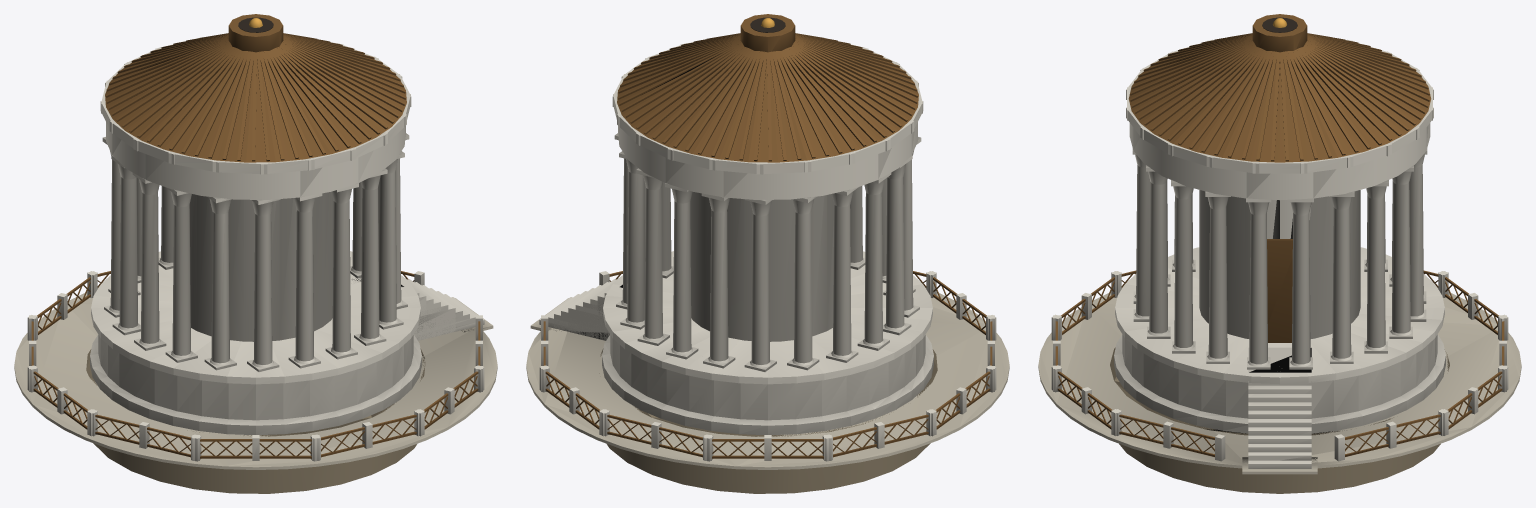
File: rome_vesta.glb
The picture shows the model from 3 angles, left to right: view 1: azimuth 30°, elevation 25°; view 2: azimuth 150°, elevation 25°; view 3: azimuth 270°, elevation 25°; orthographic projection.
Visible parts, largest first — view 1: rome_vesta; view 2: rome_vesta; view 3: rome_vesta.
Part boxes in pixels (<box>): rome_vesta: <box>14,14,497,493</box>; rome_vesta: <box>526,14,1009,493</box>; rome_vesta: <box>1038,14,1521,493</box>.
Bounding box in the file's own units: 23.5 × 21.19 × 23.
